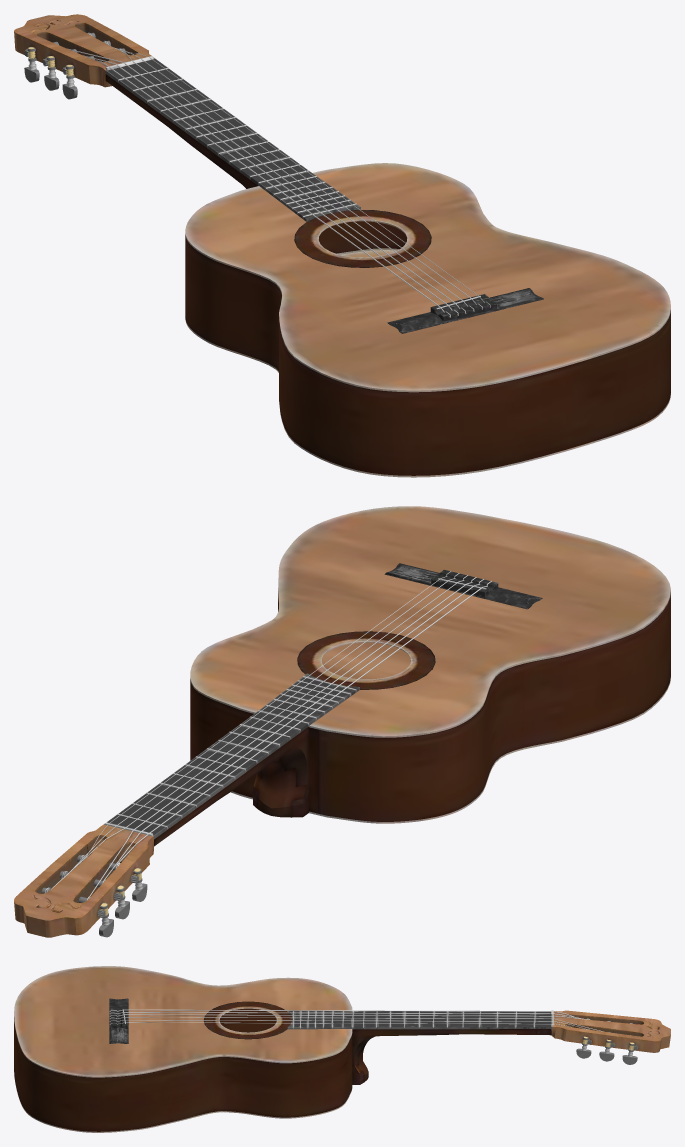
File: acoustic_guitar.glb
3 views of the same model, one above another, from view 1: azimuth 30°, elevation 25°; view 2: azimuth 150°, elevation 25°; view 3: azimuth 270°, elevation 25° (orthographic). The views are drawn at different scales.
Visible parts, largest first — view 1: defaultMaterial; view 2: defaultMaterial; view 3: defaultMaterial.
Boxes of the visible parts, left/top/right/bottom form: defaultMaterial: left=14, top=14, right=670, bottom=477; defaultMaterial: left=14, top=506, right=670, bottom=937; defaultMaterial: left=14, top=966, right=670, bottom=1132.
Size of the model in its own units: 0.7962 by 0.2055 by 2.
1 material, 1 textured.
